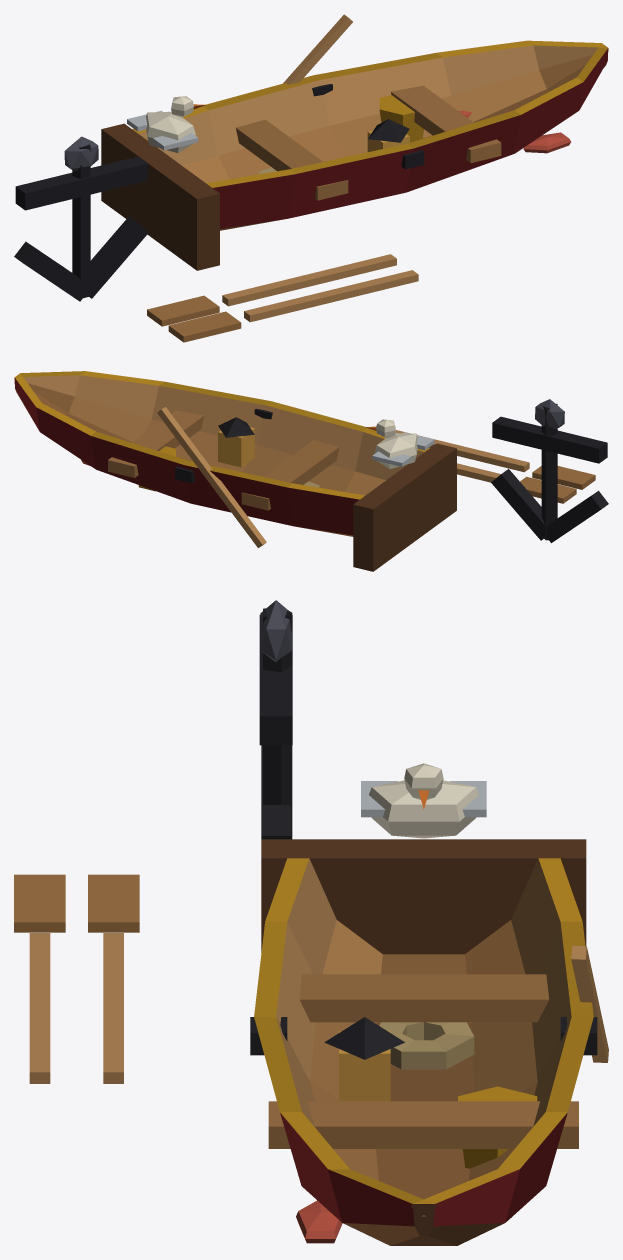
Rendered from Decor_PirateShip_Rowboat.fbx.
The picture shows the model from 3 angles, top to bottom: view 1: azimuth 30°, elevation 25°; view 2: azimuth 150°, elevation 25°; view 3: azimuth 270°, elevation 25°; orthographic projection. The views are drawn at different scales.
Parts seen in each view (by area): view 1: Rowboat_Body; view 2: Rowboat_Body; view 3: Rowboat_Body.
Boxes of the visible parts, x1=… form: Rowboat_Body: x1=14, y1=14, x2=608, y2=342; Rowboat_Body: x1=14, y1=371, x2=608, y2=571; Rowboat_Body: x1=14, y1=600, x2=608, y2=1245.
Bounding box in the file's own units: 16.4 × 4 × 7.9.
